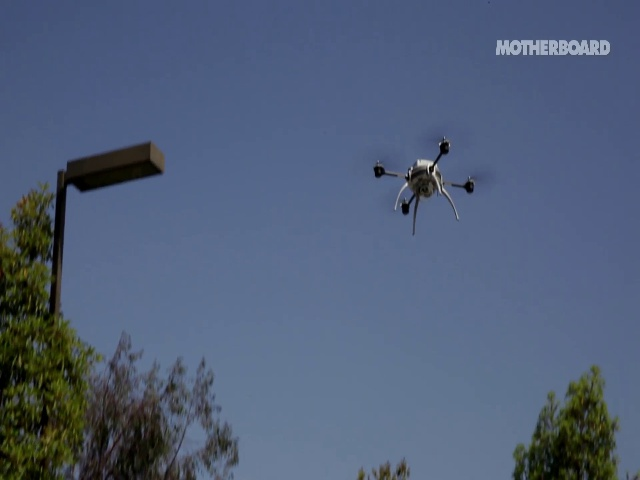drone: (368, 126, 496, 239)
